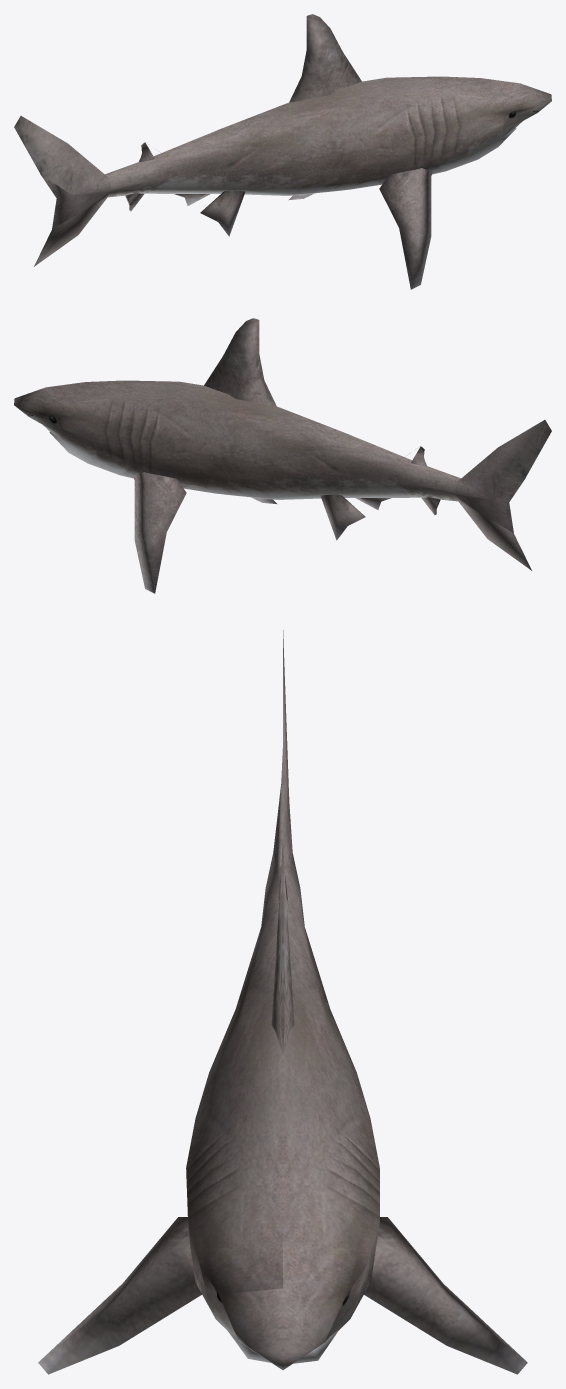
File: shark.obj
3 renders of one model, top to bottom at view 1: azimuth 30°, elevation 25°; view 2: azimuth 150°, elevation 25°; view 3: azimuth 270°, elevation 25°, orthographic. The views are drawn at different scales.
Visible parts, largest first — view 1: shark; view 2: shark; view 3: shark.
Boxes of the visible parts, x1=… form: shark: x1=14, y1=14, x2=551, y2=289; shark: x1=14, y1=318, x2=551, y2=593; shark: x1=38, y1=630, x2=527, y2=1374.
Size of the model in its own units: 1.76 by 0.7508 by 0.6945.
